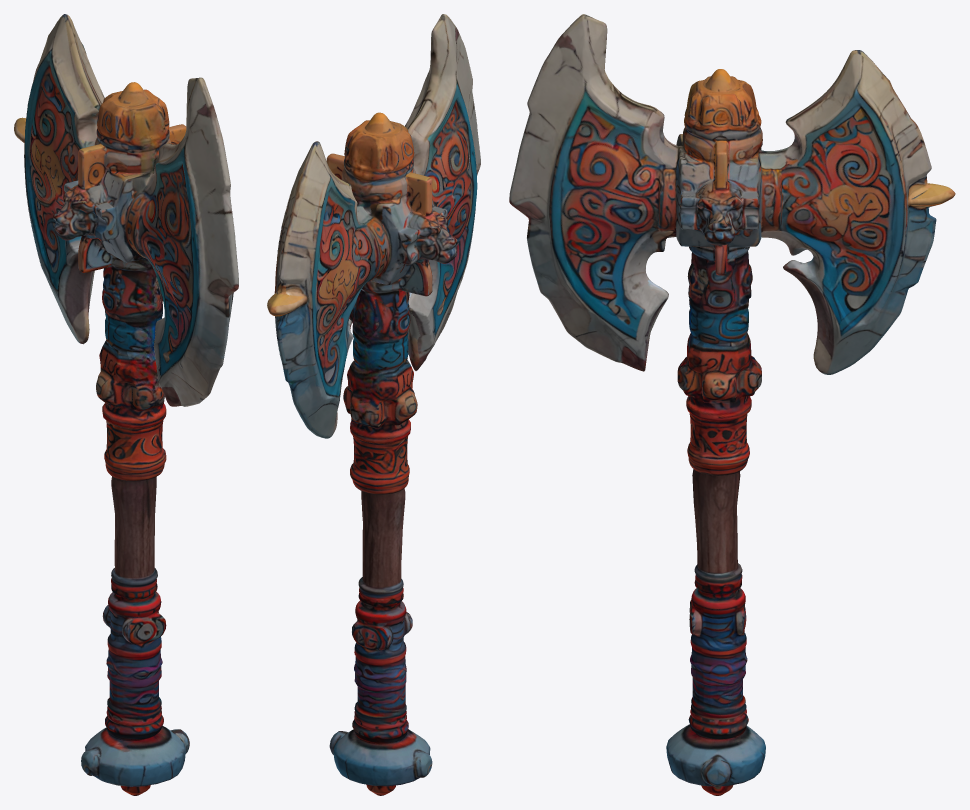
Rendered from 2h_axe_01.glb.
3 views of the same model, side by side, from view 1: azimuth 30°, elevation 25°; view 2: azimuth 150°, elevation 25°; view 3: azimuth 270°, elevation 25° (orthographic). The views are drawn at different scales.
Parts seen in each view (by area): view 1: tripo_node_3b4a2b05-7c32-4243-a94b-560fcecf7e9a; view 2: tripo_node_3b4a2b05-7c32-4243-a94b-560fcecf7e9a; view 3: tripo_node_3b4a2b05-7c32-4243-a94b-560fcecf7e9a.
Part boxes in pixels (x1,y1,x2,y2): tripo_node_3b4a2b05-7c32-4243-a94b-560fcecf7e9a: [14, 14, 238, 795]; tripo_node_3b4a2b05-7c32-4243-a94b-560fcecf7e9a: [267, 14, 480, 795]; tripo_node_3b4a2b05-7c32-4243-a94b-560fcecf7e9a: [509, 14, 955, 795].
Size of the model in its own units: 0.2159 by 1 by 0.518.
1 material, 1 textured.
